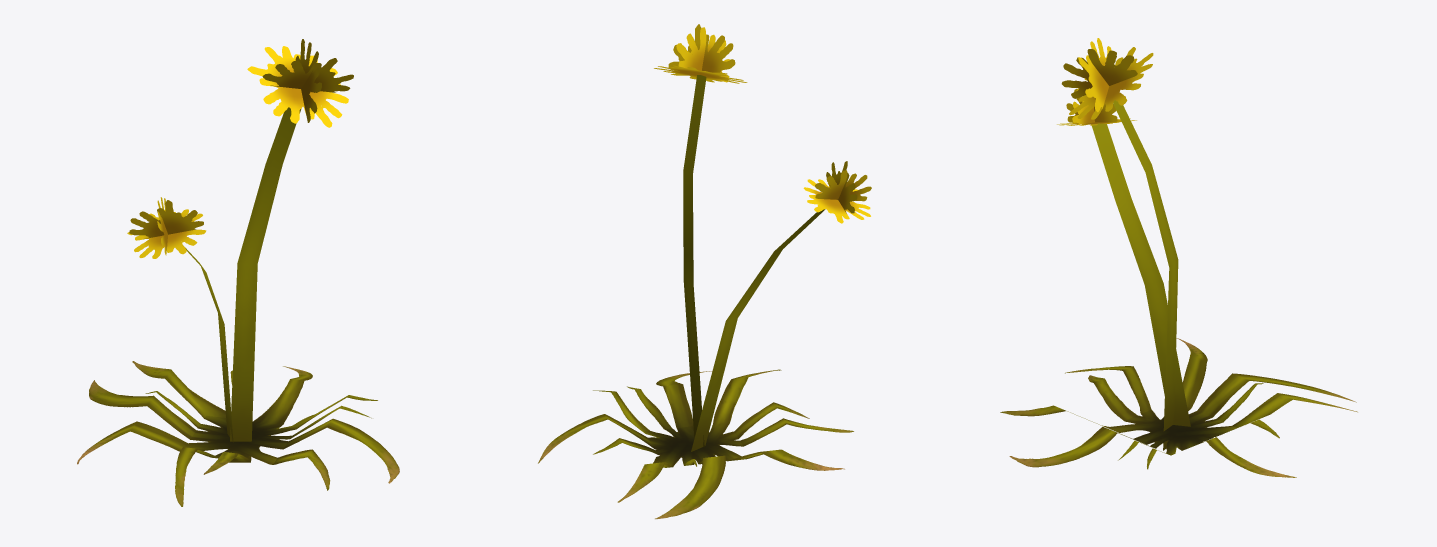
File: flowerE.fbx
3 views of the same model, side by side, from view 1: azimuth 30°, elevation 25°; view 2: azimuth 150°, elevation 25°; view 3: azimuth 270°, elevation 25° (orthographic). The views are drawn at different scales.
Visible parts, largest first — view 1: flowerE; view 2: flowerE; view 3: flowerE.
Boxes of the visible parts, x1,y1,x2,y2 form: flowerE: (77,39,399,506); flowerE: (538,24,871,519); flowerE: (1000,38,1357,477).
Size of the model in its own units: 96.79 by 94.64 by 96.81.
Materials: 1 (1 with a texture image).
